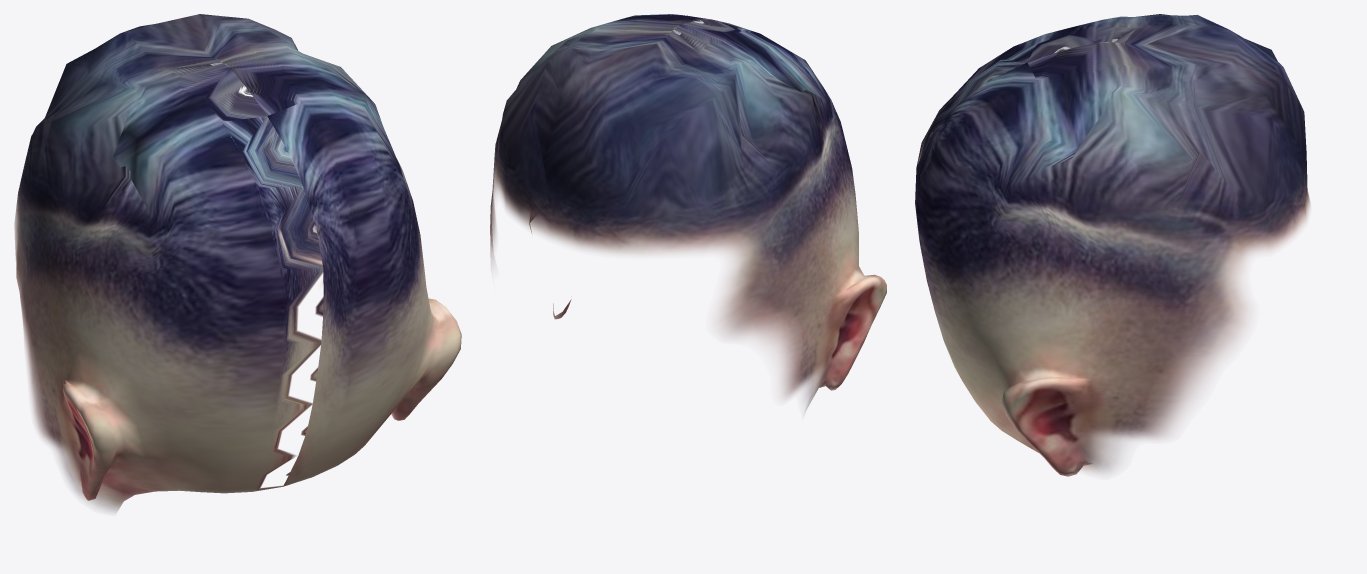
File: hair.gltf
3 views of the same model, side by side, from view 1: azimuth 30°, elevation 25°; view 2: azimuth 150°, elevation 25°; view 3: azimuth 270°, elevation 25° (orthographic). The views are drawn at different scales.
Parts seen in each view (by area): view 1: default002; view 2: default002; view 3: default002.
Boxes of the visible parts, <box> form: default002: <box>14,14,461,512</box>; default002: <box>490,14,886,411</box>; default002: <box>915,14,1310,476</box>.
Bounding box in the file's own units: 0.179 × 0.2426 × 0.1881.
1 material, 1 textured.
